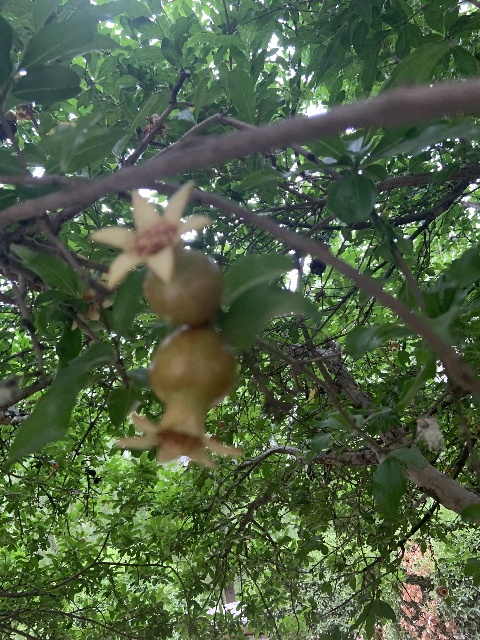early-fruit: (89, 182, 220, 327), (114, 326, 244, 470)
mid-growth: (388, 340, 398, 351)
